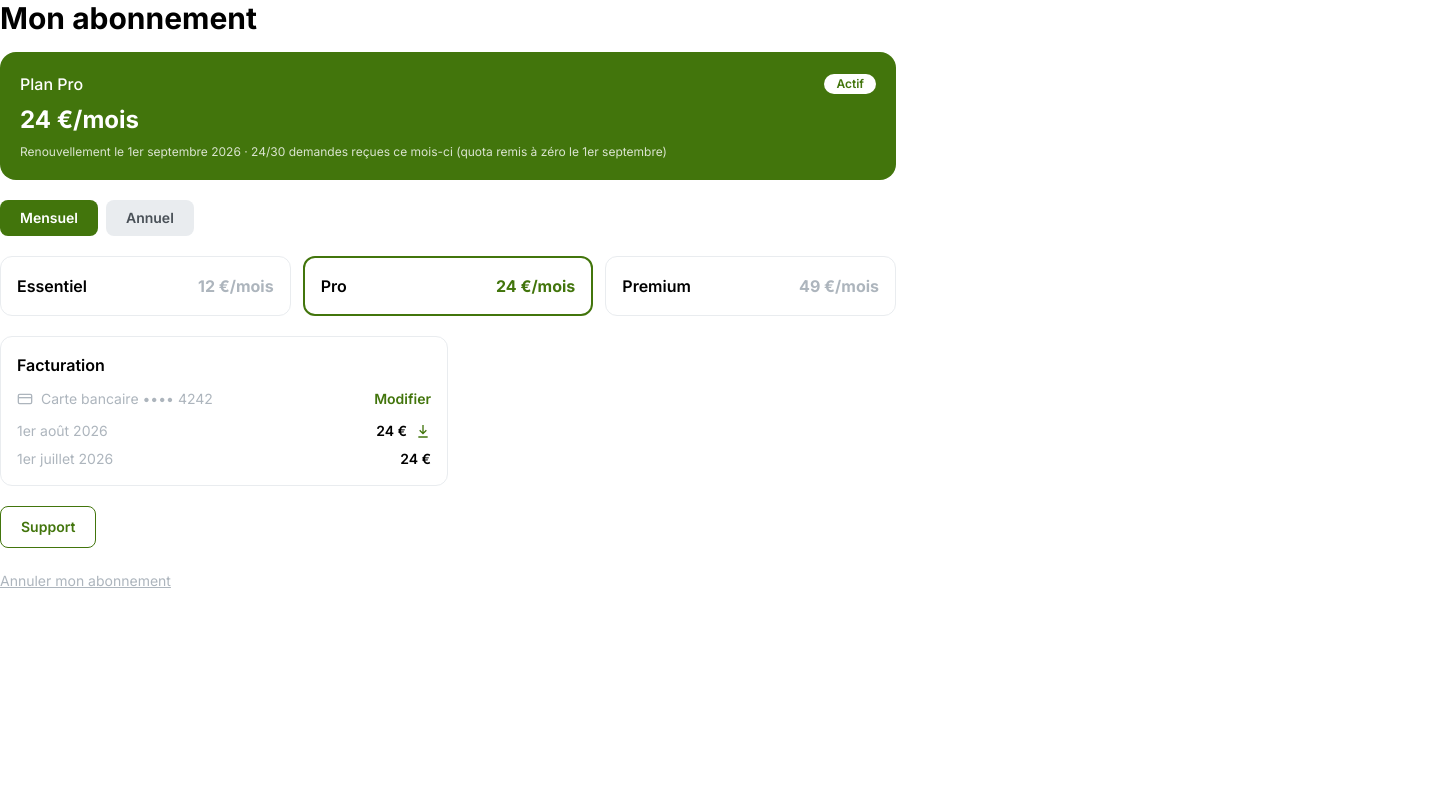
Test: SubscriptionComponent › le changement s'explique dans une carte sur fond flou, rien n'est envoyé tant qu'on n'a pas accepté
Click the button "Premium 49 €/mois": (657, 286) [605, 256, 896, 316]
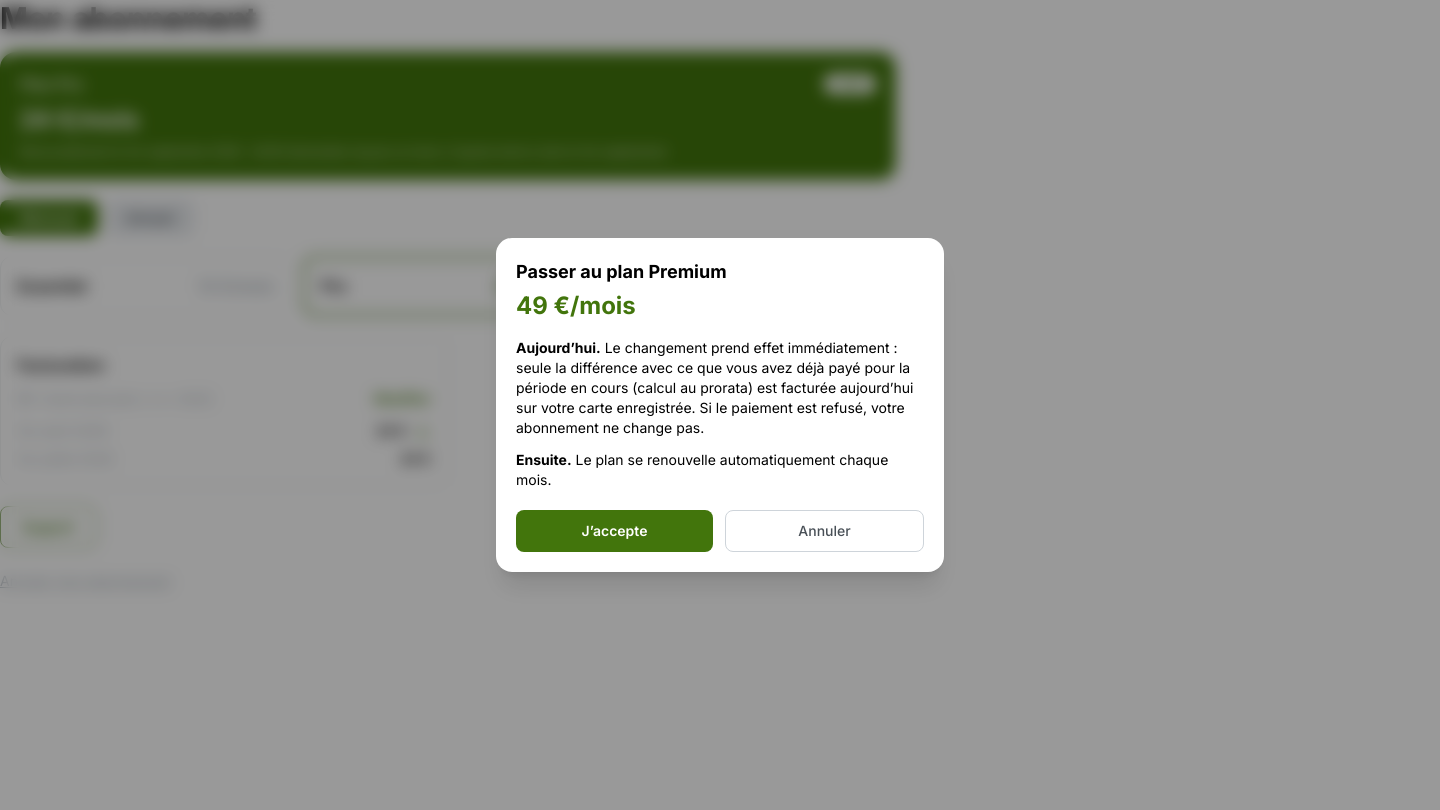
Result: the dialog shows "Passer au plan Premium" at [516, 261, 727, 282]
Result: the dialog shows "49 €/mois" at [516, 291, 636, 320]
Result: the button "J’accepte" is shown at [516, 510, 713, 552]
